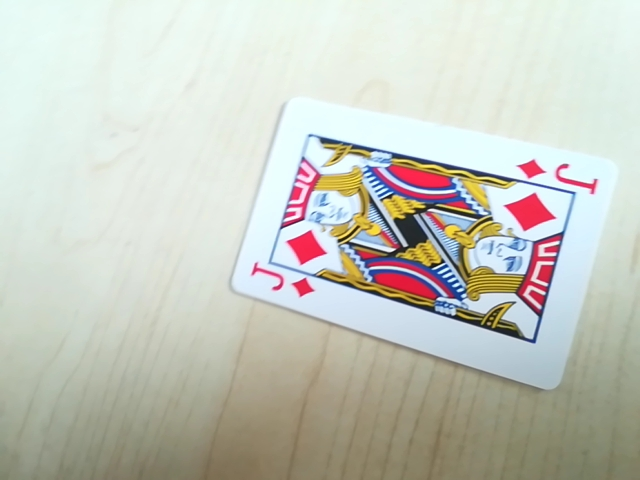fk j: (247, 264, 320, 303), (517, 154, 596, 190)
